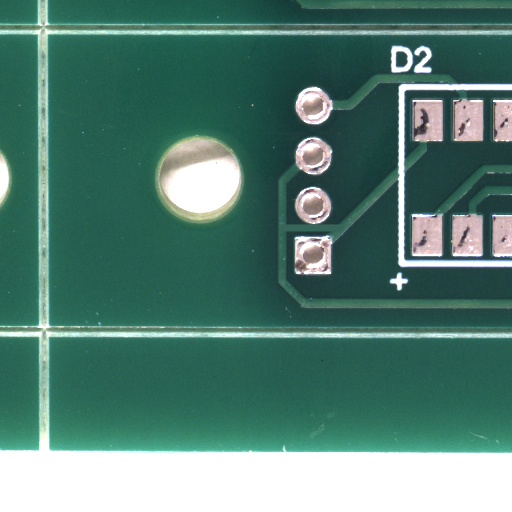Short: (311, 228, 370, 239)
